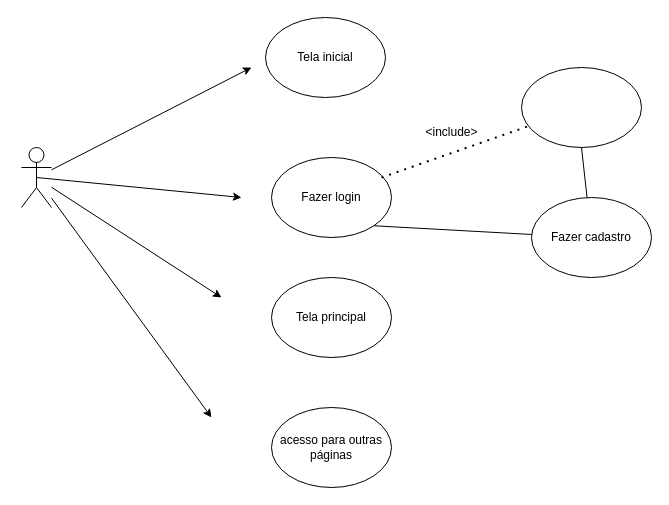
The diagram is 669 pixels wide and 505 high, and some of its shapes have lost their labels. Here are the shapes that lost their labels. From the top down, the centre of each, then its label:
the point at 581,107: verifecar cadastro
the point at 36,177: usuário
